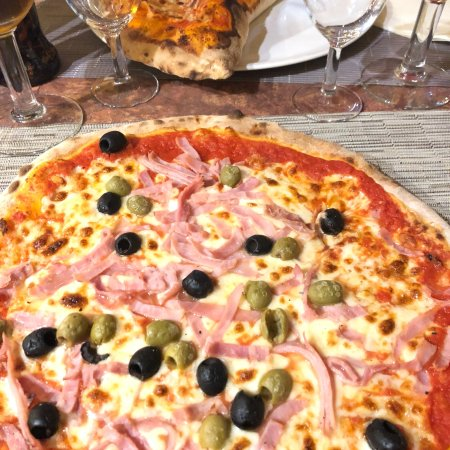olive: (365, 418, 412, 450), (129, 346, 164, 384), (196, 357, 230, 395), (231, 388, 261, 430), (27, 404, 60, 439), (18, 328, 58, 355), (181, 270, 215, 298), (317, 208, 346, 236), (112, 232, 142, 255), (99, 132, 130, 153), (96, 190, 121, 216), (245, 234, 273, 257), (81, 342, 108, 364)
